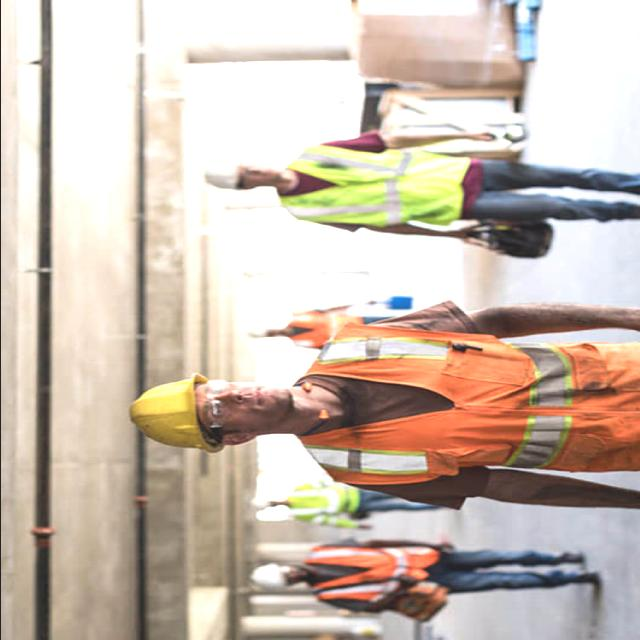Hard Hat: (127, 361, 227, 457), (199, 152, 239, 192), (249, 558, 283, 596)
Reflective Vest: (293, 322, 640, 492), (272, 135, 472, 237), (300, 544, 444, 603), (272, 474, 358, 532), (282, 308, 364, 352)
Safety Glasses: (199, 377, 235, 449)
